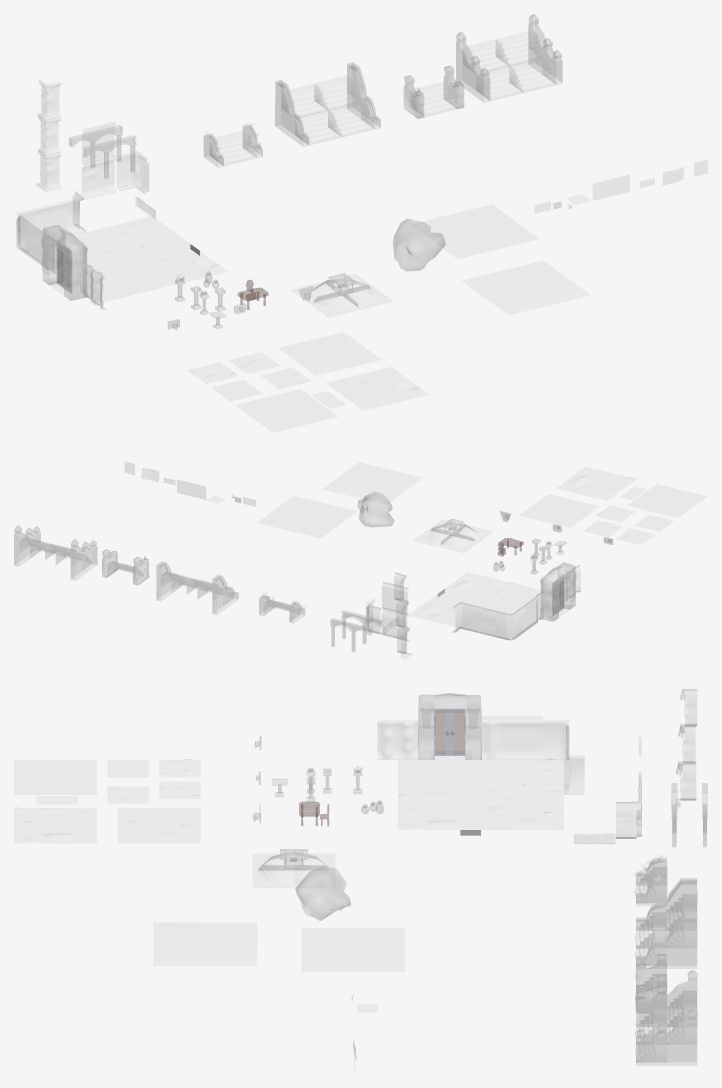
The model's file is donjon.fbx.
3 renders of one model, top to bottom at view 1: azimuth 30°, elevation 25°; view 2: azimuth 150°, elevation 25°; view 3: azimuth 270°, elevation 25°, orthographic. The views are drawn at different scales.
Parts seen in each view (by area): view 1: Ground.018, Ground.002, Gate Type A, Floor 8x8 Type B, Floor 8x8 Type A.001, Floor 8x8 Type B.001, Floor 8x8 Type C.001, Floor 8x8 Type C, Cube.026, Floor 8x8 Type A, Stair Rail type C.003, Stair Rail type C.002 (+23 smaller); view 2: Ground.002, Ground.018, Gate Type A, Floor 8x8 Type C, Floor 8x8 Type C.001, Floor 8x8 Type A.001, Floor 8x8 Type B.001, Floor 8x8 Type B, Cube.026, Stair Rail type C.002, Floor 8x8 Type A, Stair Rail type C.003 (+23 smaller); view 3: Ground.002, Ground.018, Floor 8x8 Type C, Floor 8x8 Type A, Floor 8x8 Type B, Floor 8x8 Type A.001, Floor 8x8 Type C.001, Floor 8x8 Type B.001, Gate Type A, Stair Rail type C.003, Cube.026, Stair Rails B.001 (+30 smaller).
Boxes of the visible parts, left/top/right/bottom form: Ground.018: left=463, top=261, right=589, bottom=314; Ground.002: left=423, top=205, right=538, bottom=258; Gate Type A: left=42, top=225, right=86, bottom=300; Floor 8x8 Type B: left=87, top=216, right=189, bottom=259; Floor 8x8 Type A.001: left=236, top=389, right=337, bottom=432; Floor 8x8 Type B.001: left=279, top=332, right=380, bottom=375; Floor 8x8 Type C.001: left=327, top=367, right=428, bottom=409; Floor 8x8 Type C: left=126, top=244, right=227, bottom=287; Cube.026: left=393, top=219, right=445, bottom=271; Floor 8x8 Type A: left=87, top=260, right=161, bottom=302; Stair Rail type C.003: left=528, top=14, right=562, bottom=84; Stair Rail type C.002: left=456, top=32, right=489, bottom=102; Ground.002: left=258, top=496, right=356, bottom=537; Ground.018: left=324, top=463, right=422, bottom=501; Gate Type A: left=540, top=562, right=575, bottom=621; Floor 8x8 Type C: left=438, top=572, right=518, bottom=605; Floor 8x8 Type C.001: left=557, top=467, right=635, bottom=500; Floor 8x8 Type A.001: left=628, top=484, right=706, bottom=517; Floor 8x8 Type B.001: left=520, top=494, right=598, bottom=527; Floor 8x8 Type B: left=409, top=594, right=488, bottom=626; Cube.026: left=357, top=492, right=394, bottom=526; Stair Rail type C.002: left=71, top=539, right=97, bottom=580; Floor 8x8 Type A: left=491, top=585, right=540, bottom=617; Stair Rail type C.003: left=14, top=525, right=40, bottom=566; Ground.002: left=302, top=928, right=404, bottom=971; Ground.018: left=154, top=923, right=256, bottom=965; Floor 8x8 Type C: left=398, top=794, right=480, bottom=829; Floor 8x8 Type A: left=398, top=760, right=480, bottom=794; Floor 8x8 Type B: left=481, top=795, right=563, bottom=829; Floor 8x8 Type A.001: left=14, top=760, right=96, bottom=794; Floor 8x8 Type C.001: left=14, top=808, right=96, bottom=842; Floor 8x8 Type B.001: left=118, top=808, right=199, bottom=842; Gate Type A: left=418, top=693, right=481, bottom=759; Stair Rail type C.003: left=636, top=1009, right=697, bottom=1065; Cube.026: left=295, top=866, right=350, bottom=920; Stair Rails B.001: left=636, top=916, right=697, bottom=968.
Size of the model in its own units: 7386 by 1305 by 6687.
